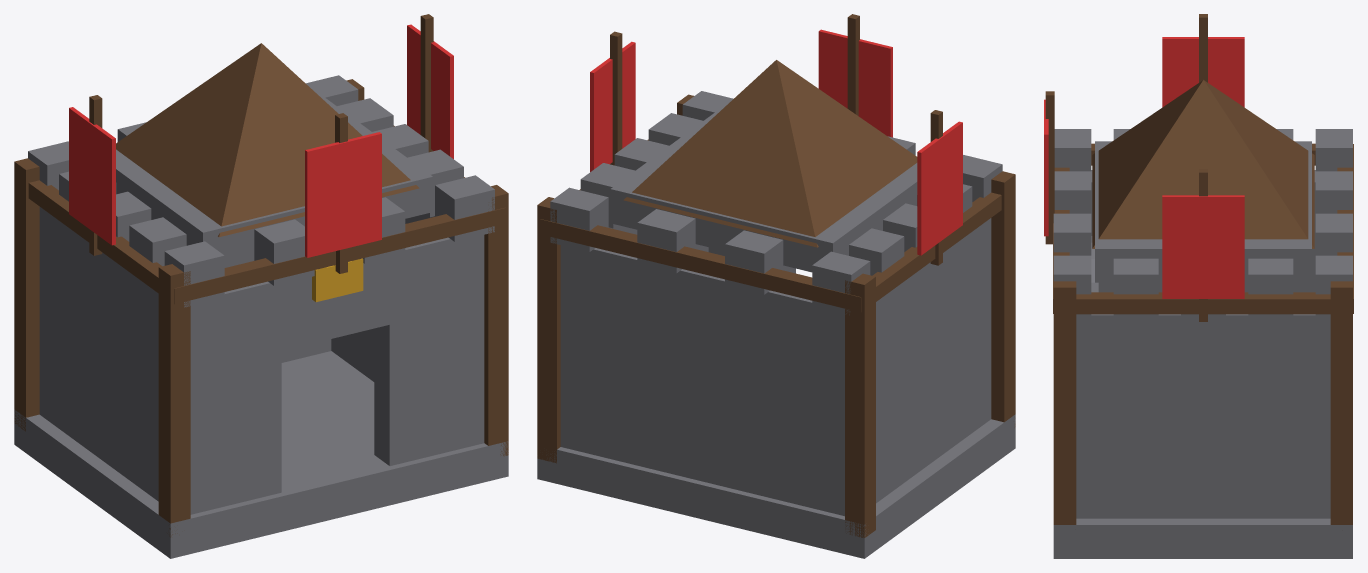
Rendered from RC_Fortress_Red.glb.
3 renders of one model, left to right at view 1: azimuth 30°, elevation 25°; view 2: azimuth 150°, elevation 25°; view 3: azimuth 270°, elevation 25°, orthographic. The views are drawn at different scales.
Visible parts, largest first — view 1: RC_Fortress_Red_Walls, RC_Fortress_Red_Base, RC_Fortress_Red_WoodFrame, RC_Fortress_Red_Roof, RC_Fortress_Red_Battlements, RC_Fortress_Red_Banner_Front, RC_Fortress_Red_RoofBase, RC_Fortress_Red_Banner_L, RC_Fortress_Red_Banner_R, RC_Fortress_Red_BannerPoles, RC_Fortress_Red_Arch, RC_Fortress_Red_Emblem; view 2: RC_Fortress_Red_Walls, RC_Fortress_Red_WoodFrame, RC_Fortress_Red_Roof, RC_Fortress_Red_Base, RC_Fortress_Red_Battlements, RC_Fortress_Red_RoofBase, RC_Fortress_Red_Banner_Front, RC_Fortress_Red_Banner_L, RC_Fortress_Red_Banner_R, RC_Fortress_Red_BannerPoles; view 3: RC_Fortress_Red_Walls, RC_Fortress_Red_Roof, RC_Fortress_Red_WoodFrame, RC_Fortress_Red_Battlements, RC_Fortress_Red_Base, RC_Fortress_Red_Banner_R, RC_Fortress_Red_RoofBase, RC_Fortress_Red_Banner_L, RC_Fortress_Red_BannerPoles, RC_Fortress_Red_Banner_Front.
Part boxes in pixels (<box>): RC_Fortress_Red_Walls: <box>39,207,484,514</box>; RC_Fortress_Red_Base: <box>14,351,508,558</box>; RC_Fortress_Red_WoodFrame: <box>14,79,508,537</box>; RC_Fortress_Red_Roof: <box>116,43,419,237</box>; RC_Fortress_Red_Battlements: <box>28,75,494,307</box>; RC_Fortress_Red_Banner_Front: <box>305,132,381,257</box>; RC_Fortress_Red_RoofBase: <box>116,94,432,262</box>; RC_Fortress_Red_Banner_L: <box>69,107,115,245</box>; RC_Fortress_Red_Banner_R: <box>407,24,453,158</box>; RC_Fortress_Red_BannerPoles: <box>89,14,433,273</box>; RC_Fortress_Red_Arch: <box>271,268,399,349</box>; RC_Fortress_Red_Emblem: <box>312,258,363,302</box>; RC_Fortress_Red_Walls: <box>560,218,991,516</box>; RC_Fortress_Red_WoodFrame: <box>537,94,1015,537</box>; RC_Fortress_Red_Roof: <box>623,60,917,247</box>; RC_Fortress_Red_Base: <box>537,414,1015,558</box>; RC_Fortress_Red_Battlements: <box>550,91,1002,315</box>; RC_Fortress_Red_RoofBase: <box>610,109,917,272</box>; RC_Fortress_Red_Banner_Front: <box>818,29,892,137</box>; RC_Fortress_Red_Banner_L: <box>917,121,962,255</box>; RC_Fortress_Red_Banner_R: <box>590,41,635,171</box>; RC_Fortress_Red_BannerPoles: <box>610,14,942,265</box>; RC_Fortress_Red_Walls: <box>1076,170,1330,518</box>; RC_Fortress_Red_Roof: <box>1092,80,1314,248</box>; RC_Fortress_Red_WoodFrame: <box>1053,143,1353,524</box>; RC_Fortress_Red_Battlements: <box>1053,129,1352,315</box>; RC_Fortress_Red_Base: <box>1053,518,1352,558</box>; RC_Fortress_Red_Banner_R: <box>1162,195,1244,298</box>; RC_Fortress_Red_RoofBase: <box>1095,141,1311,282</box>; RC_Fortress_Red_Banner_L: <box>1162,37,1244,107</box>; RC_Fortress_Red_BannerPoles: <box>1045,14,1207,321</box>; RC_Fortress_Red_Banner_Front: <box>1044,99,1048,236</box>.
Size of the model in its own units: 5.06 by 5.9 by 4.14.
